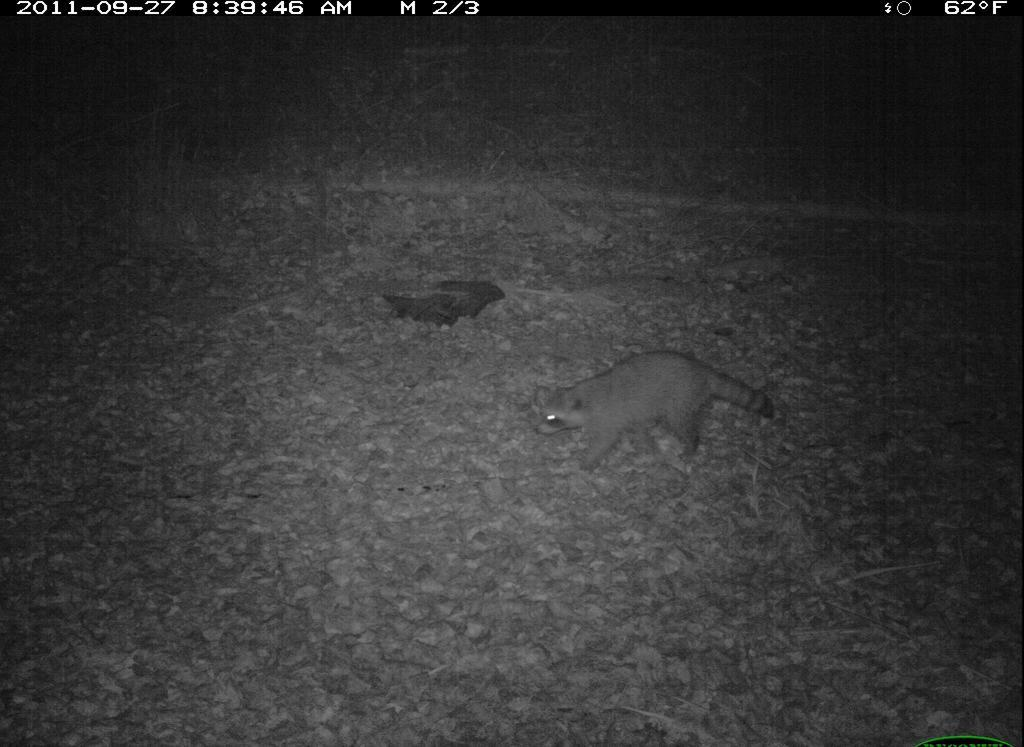raccoon: (527, 333, 790, 492)
